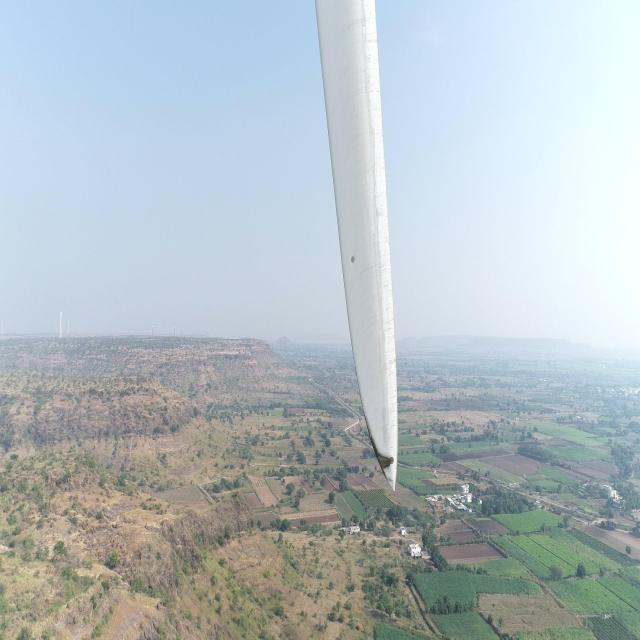oil_leakage: (365, 414, 395, 482), (364, 414, 395, 479)
